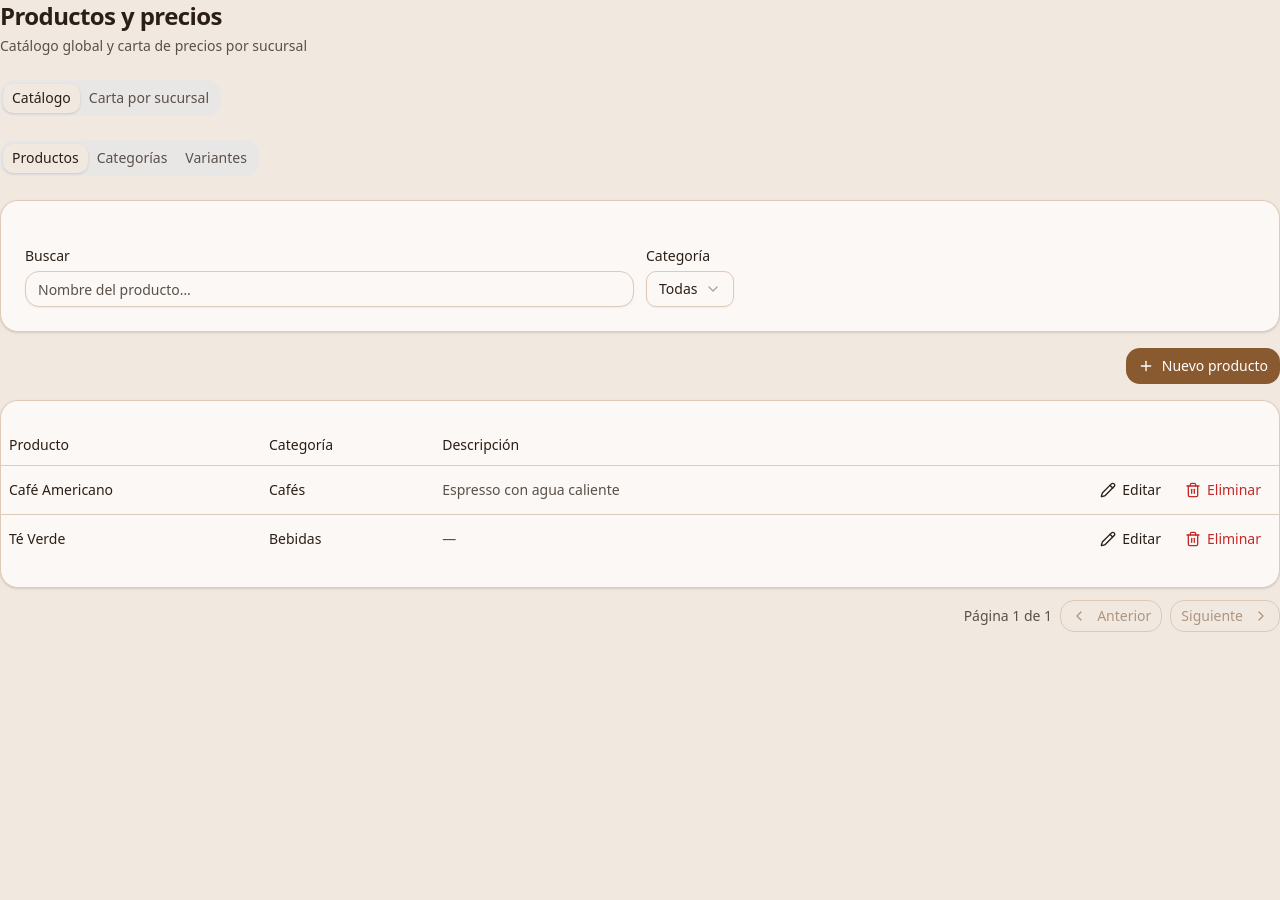
Scenario: Catálogo de productos › muestra el 409 al repetir el nombre de un producto
Check: the text "Café Americano" is shown, box [9, 480, 113, 498]
Step 1. Click the button "Nuevo producto" → [1203, 366], box [1126, 348, 1279, 384]
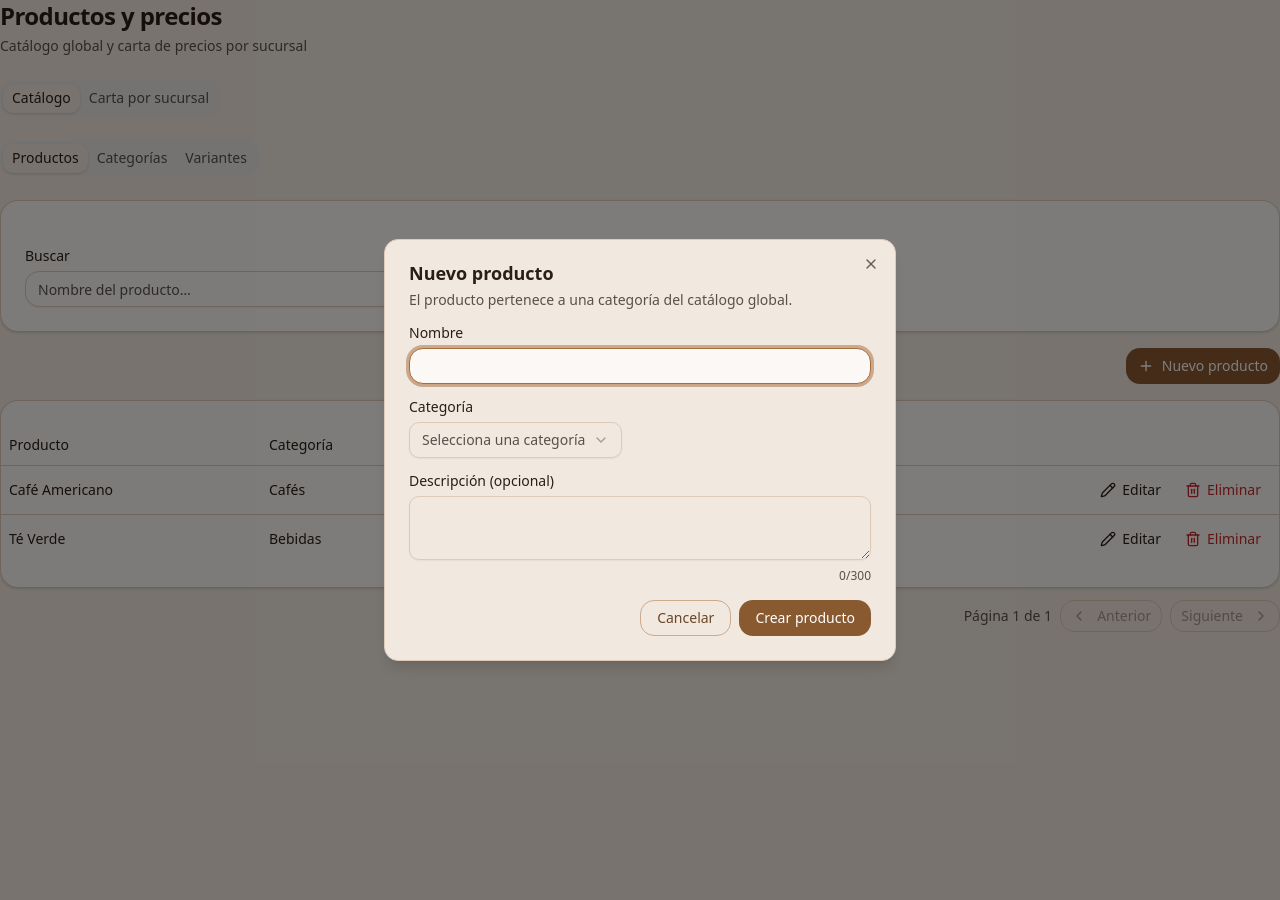
Step 2. Type "Café Americano" into the field labelled "Nombre" → [640, 366], box [409, 348, 871, 384]
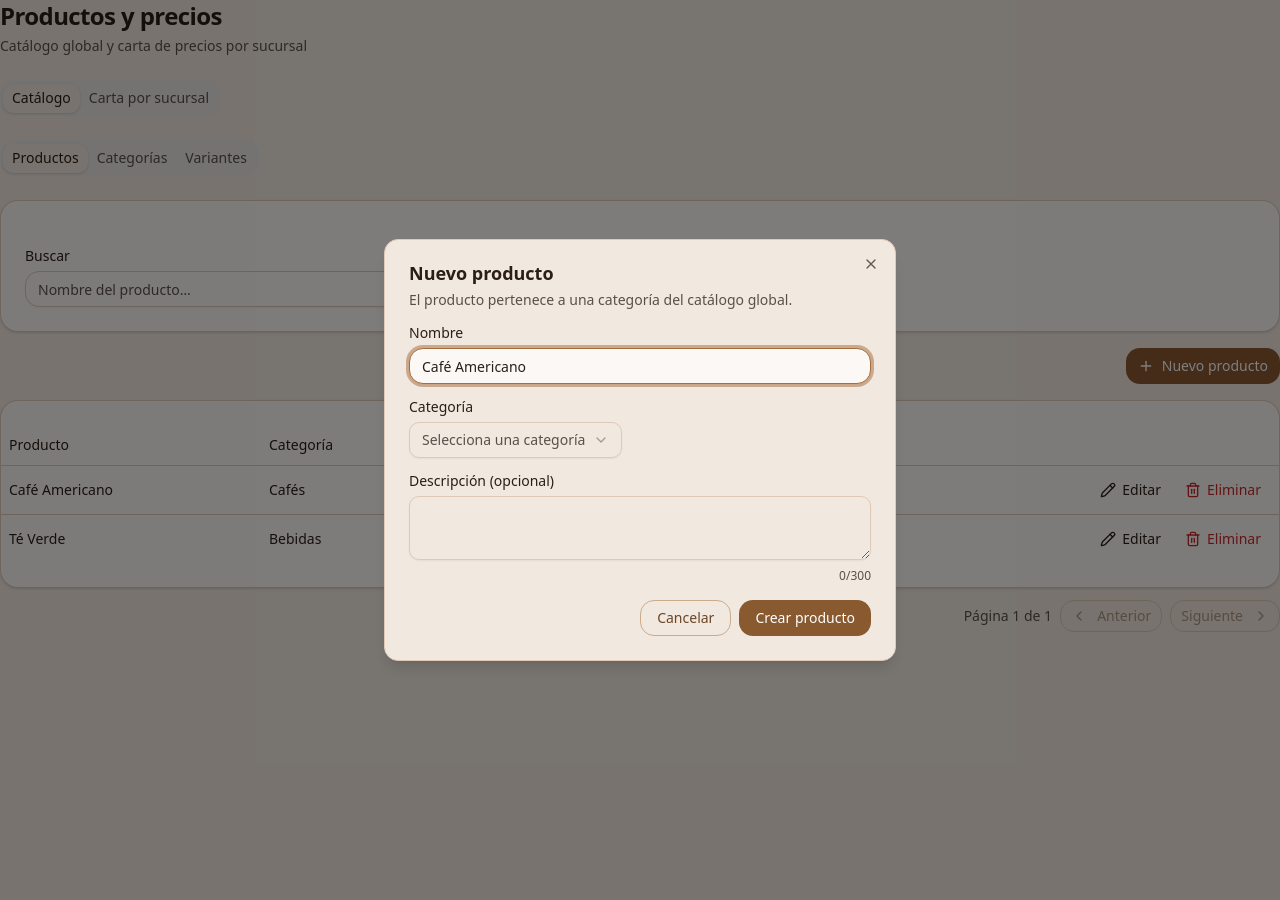
Step 3. Click the dropdown labelled "categoría" → [516, 440], box [409, 422, 622, 458]
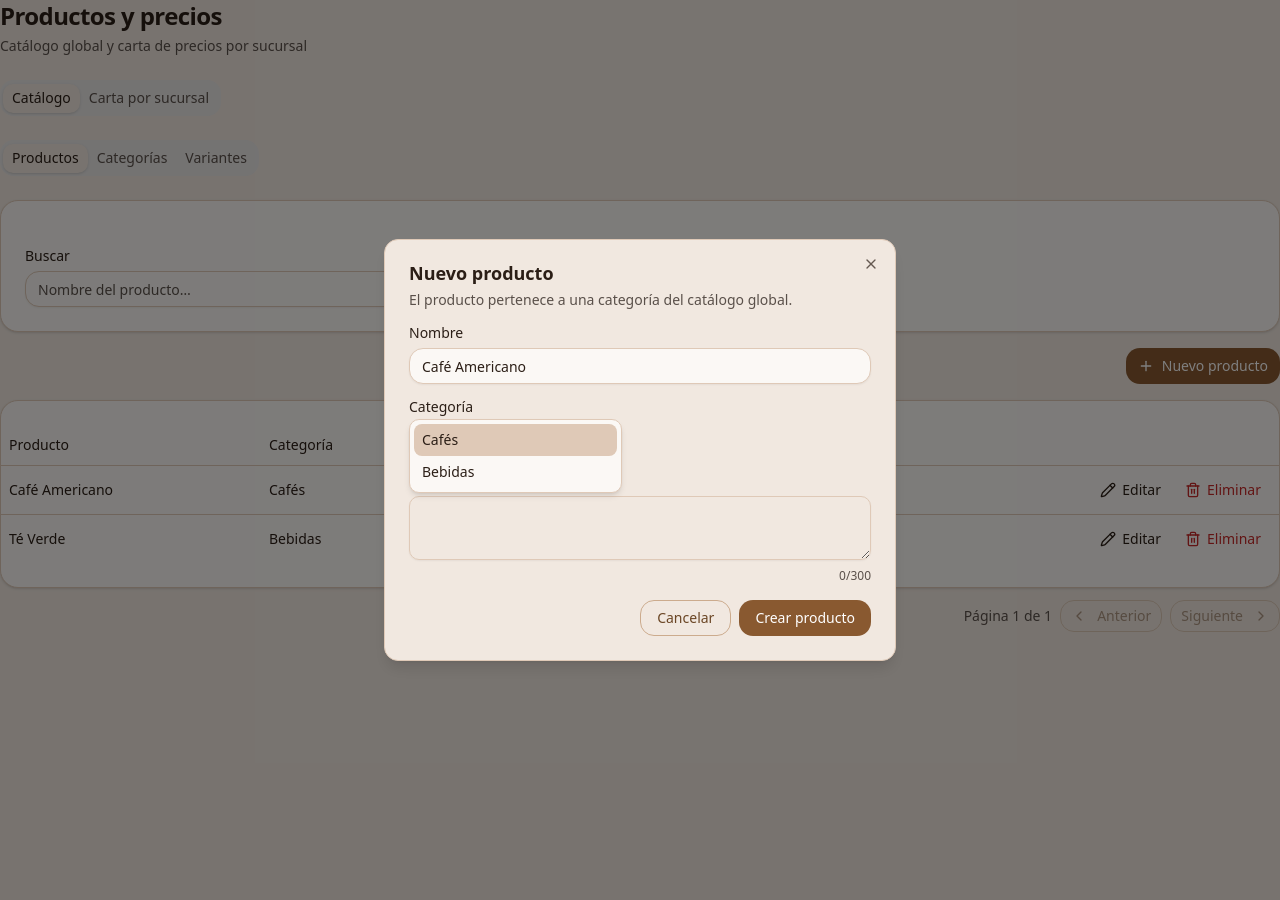
Step 4. Click the option "Cafés" → [516, 440], box [414, 424, 617, 456]
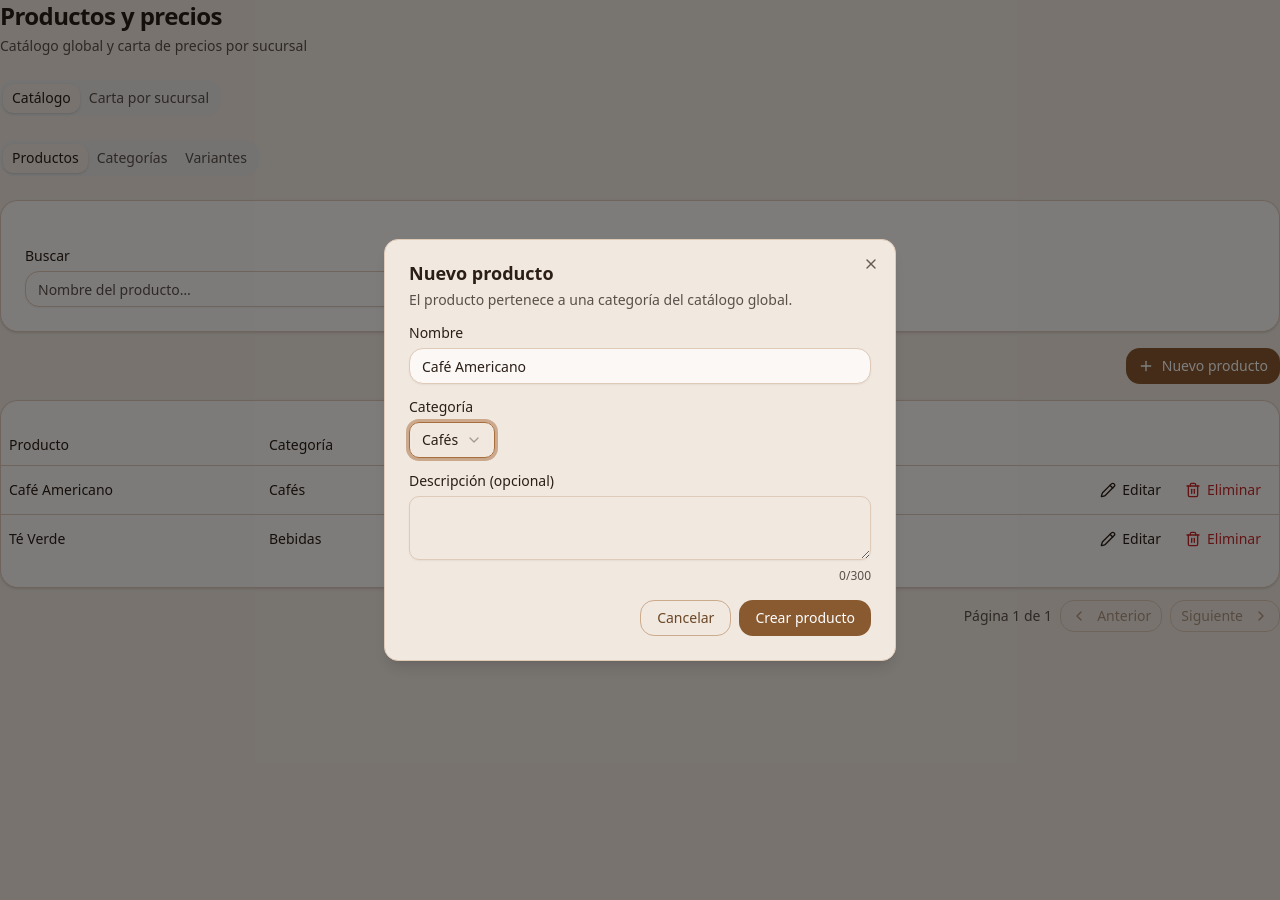
Step 5. Click the button "Crear producto" → [805, 618], box [739, 600, 871, 636]
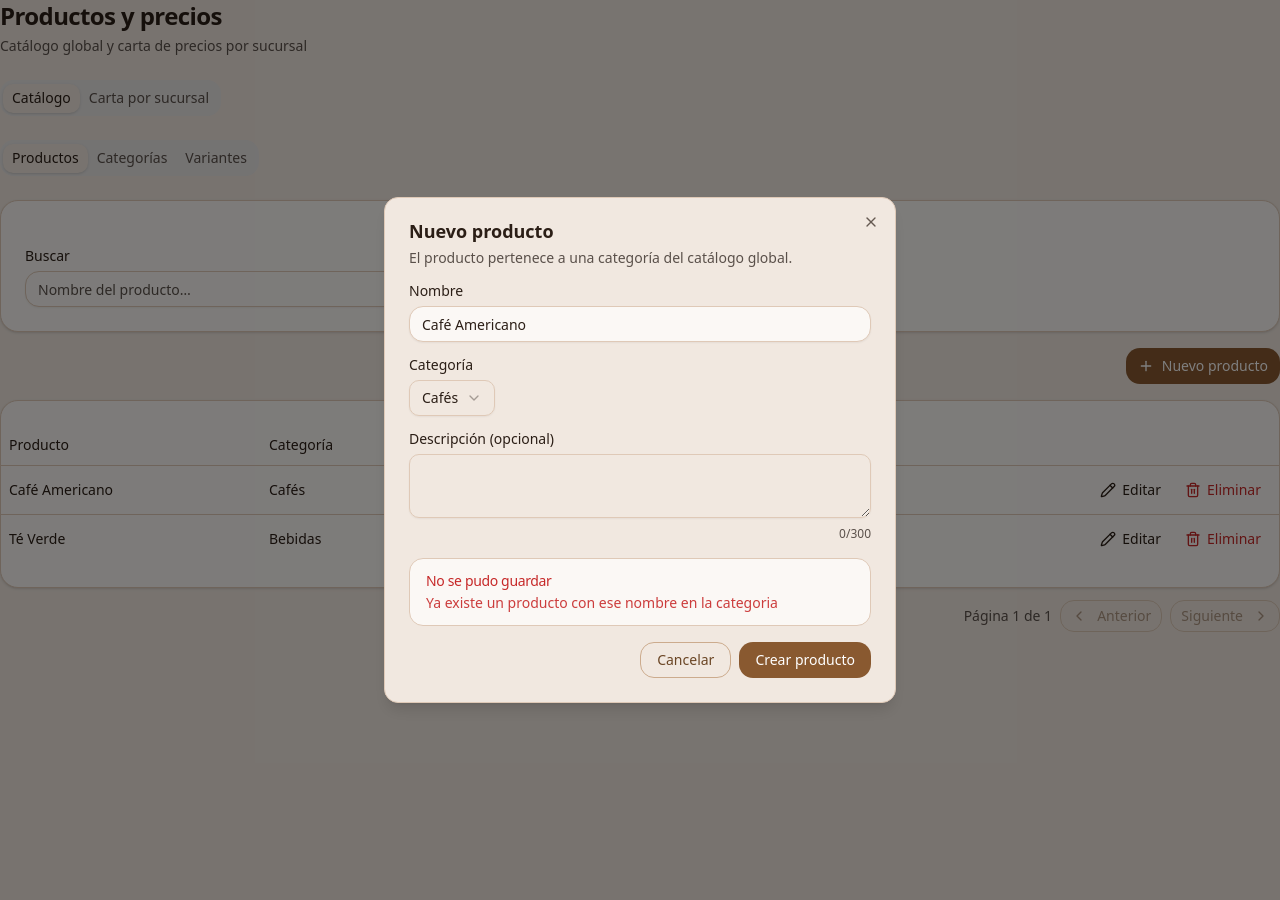
Check: the text "Ya existe un producto con ese nombre en la categoria" is shown, box [426, 593, 778, 612]
